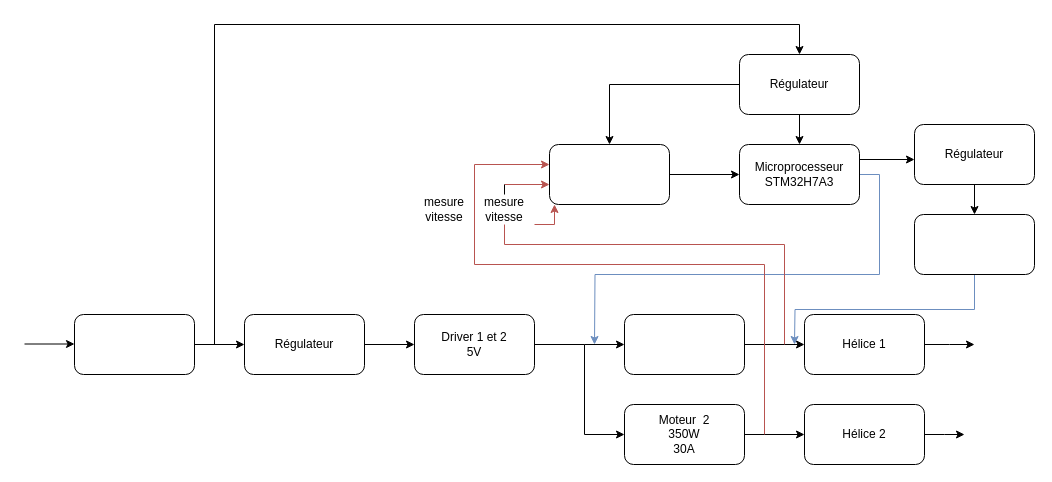
The diagram is 1052 pixels wide and 482 high, and some of its shapes have lost their labels. Each missing label, with the box of its shape:
Batterie 11,1V: (74, 314, 194, 374)
Centrale inertielle 3,3V: (548, 144, 670, 204)
Moteur 1 350W 30A: (624, 314, 744, 374)
Servo-moteur 7,4V: (914, 214, 1034, 274)
